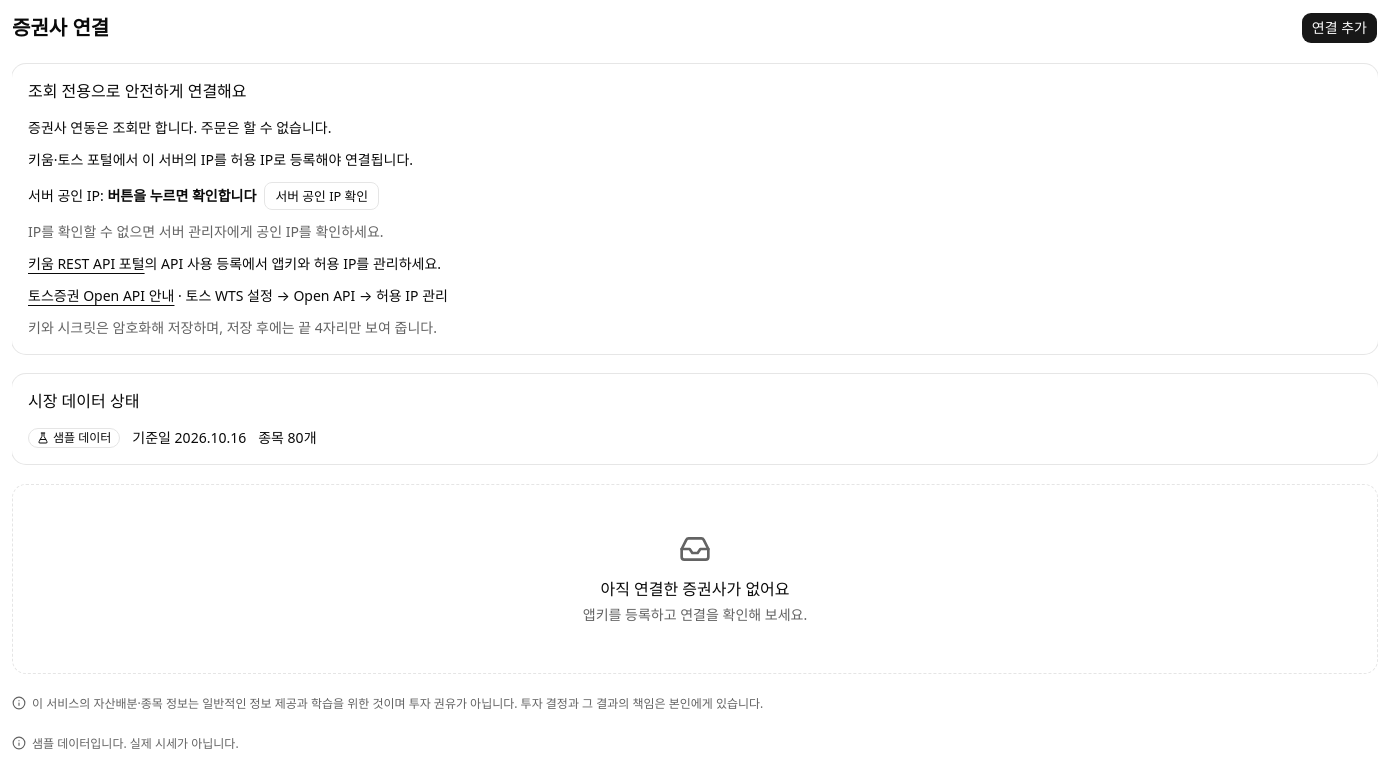
Scenario: 증권사 연결 › IP 조회 요청이 실패하면 확인할 수 없음을 보여 주고 다시 시도할 수 있다
Click the button "서버 공인 IP 확인".
click(322, 196)  # box [264,182,379,210]
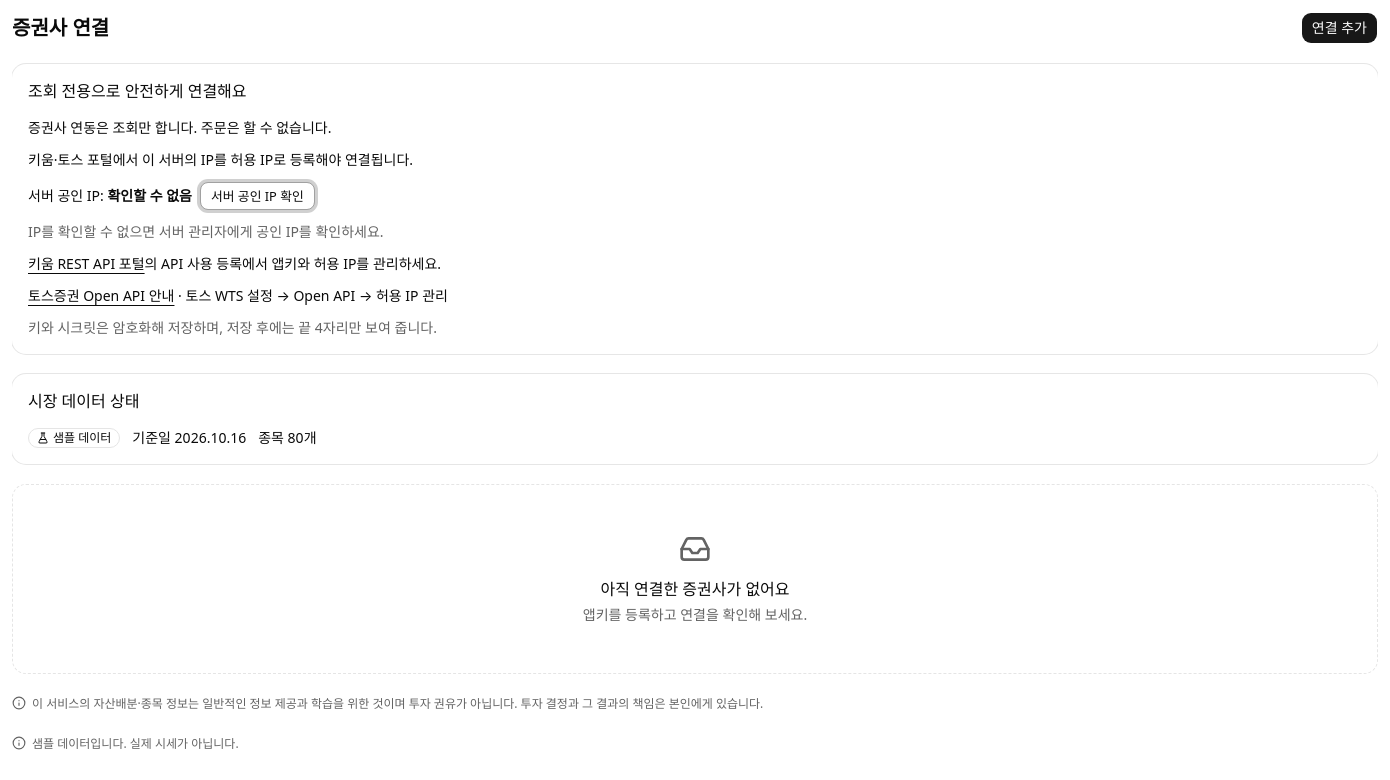
Expected: the text "확인할 수 없음" is shown, [107,186,192,205]
Click the button "서버 공인 IP 확인".
click(257, 196)  # box [200,182,315,210]
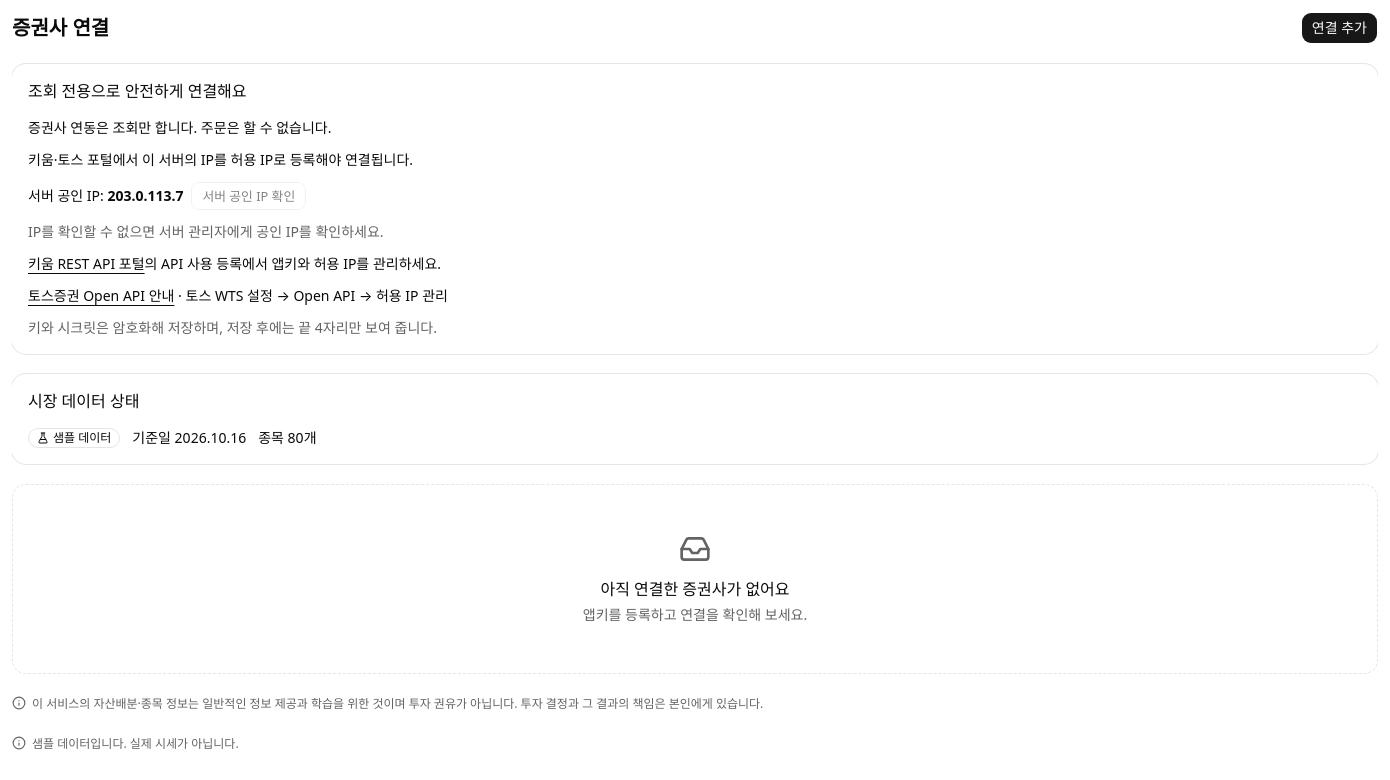
Expected: the text "203.0.113.7" is shown, [107,186,183,205]
